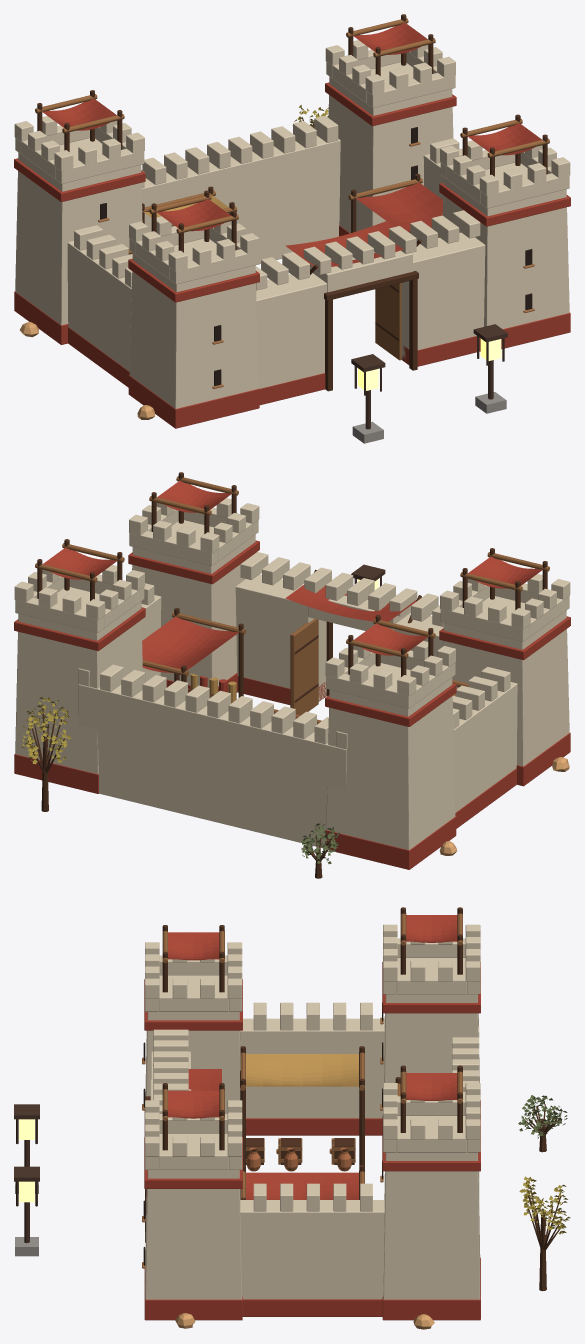
File: panti.glb
3 renders of one model, top to bottom at view 1: azimuth 30°, elevation 25°; view 2: azimuth 150°, elevation 25°; view 3: azimuth 270°, elevation 25°, orthographic. The views are drawn at different scales.
Visible parts, largest first — view 1: panti_building_only; view 2: panti_building_only; view 3: panti_building_only.
Boxes of the visible parts, x1,y1,x2,y2 form: panti_building_only: [14, 14, 570, 443]; panti_building_only: [14, 472, 570, 878]; panti_building_only: [14, 907, 570, 1329].
Size of the model in its own units: 4.6 by 2.13 by 4.91.
